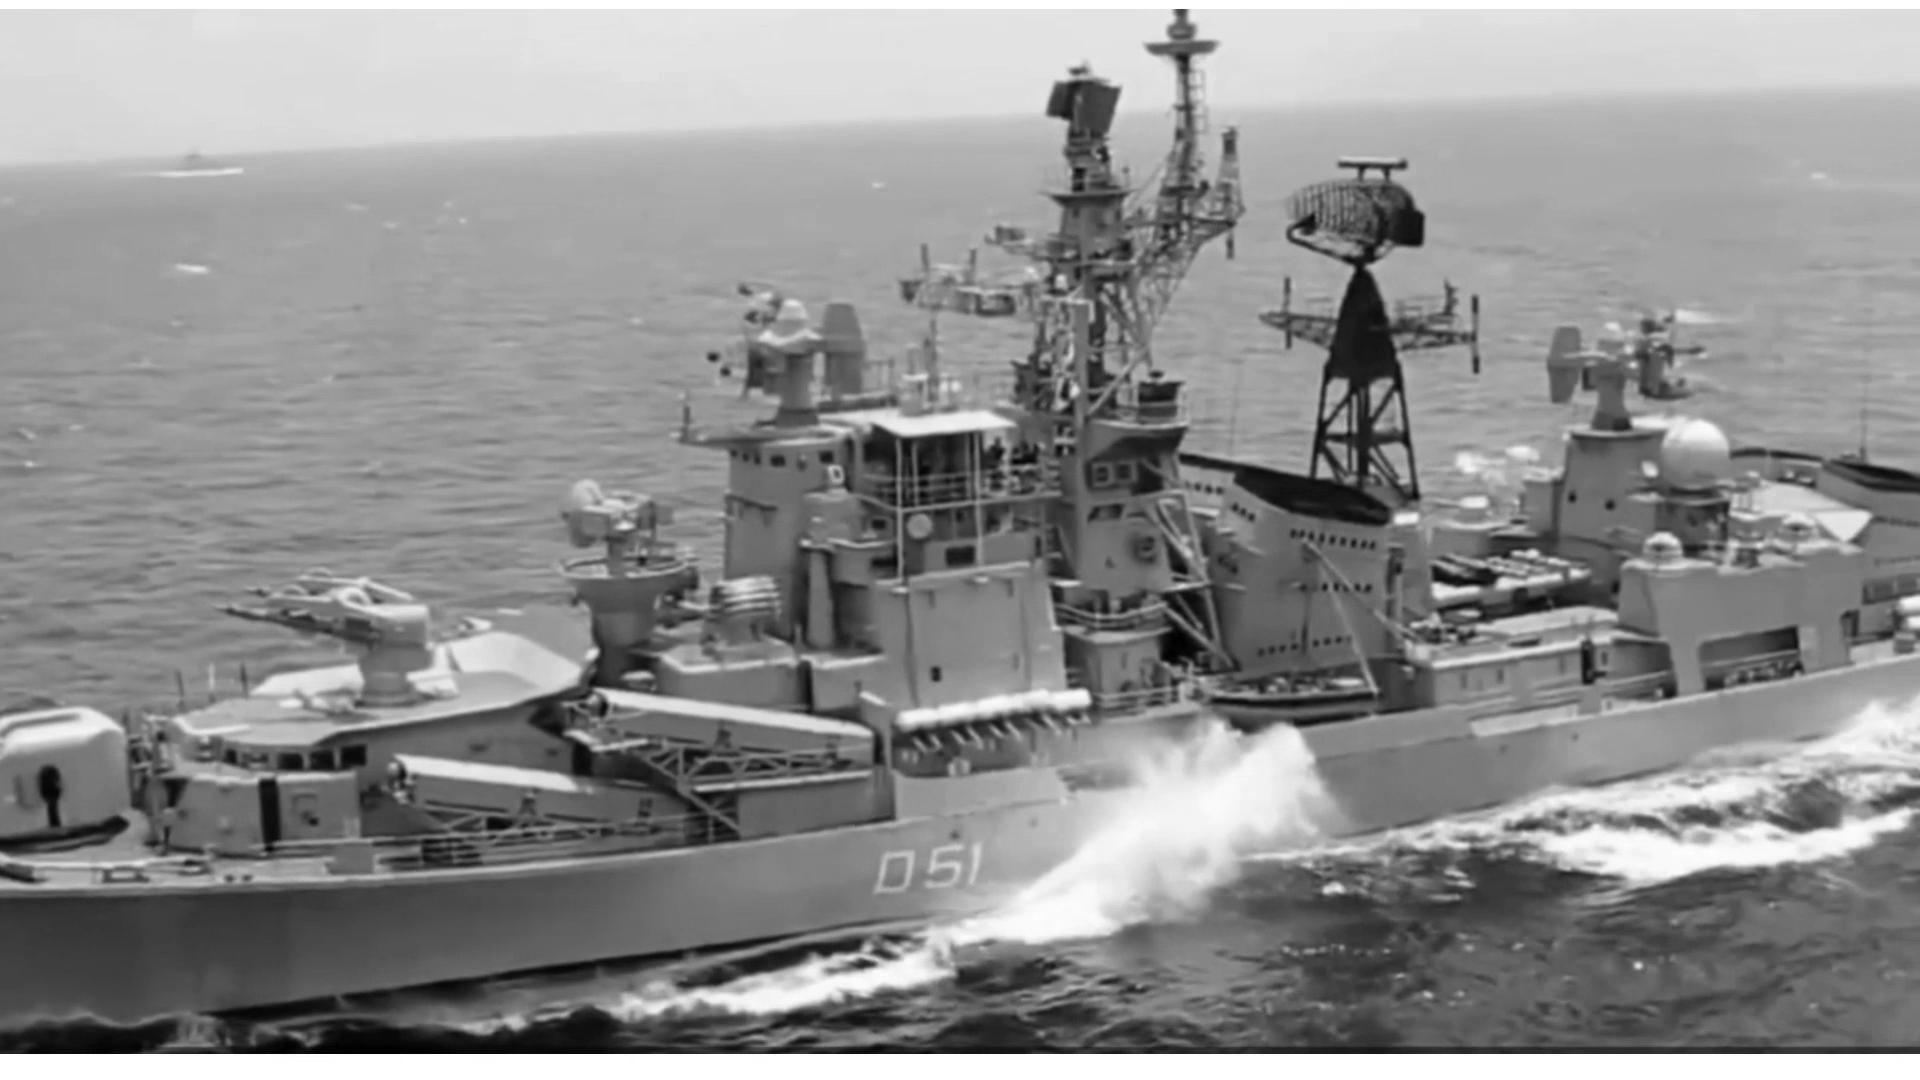OCR: (838, 824, 988, 910)
